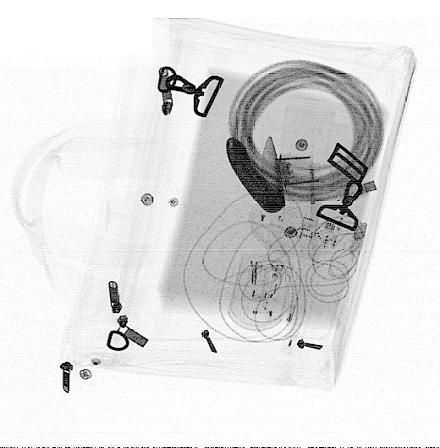Knife: (224, 132, 287, 215)
